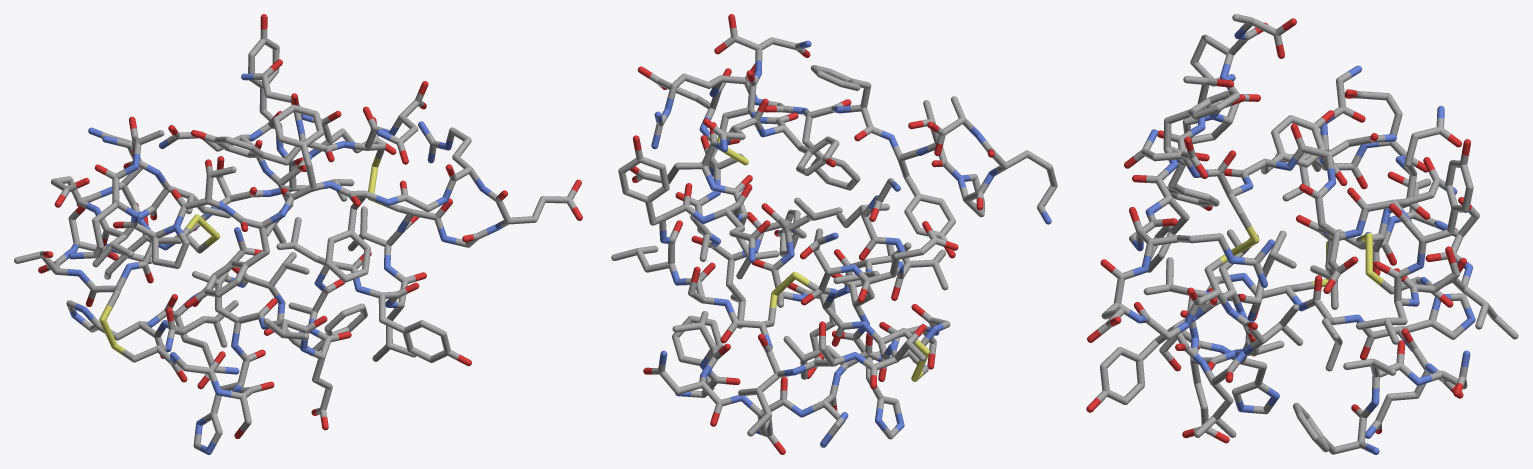
File: insulin-sticks.glb
The picture shows the model from 3 angles, left to right: view 1: azimuth 30°, elevation 25°; view 2: azimuth 150°, elevation 25°; view 3: azimuth 270°, elevation 25°; orthographic projection. The views are drawn at different scales.
Parts seen in each view (by area): view 1: insulin-sticks; view 2: insulin-sticks; view 3: insulin-sticks.
Part boxes in pixels (<box>): insulin-sticks: <box>14,14,582,454</box>; insulin-sticks: <box>611,14,1057,454</box>; insulin-sticks: <box>1086,14,1518,454</box>.
Size of the model in its own units: 31.15 by 22.42 by 23.13.
